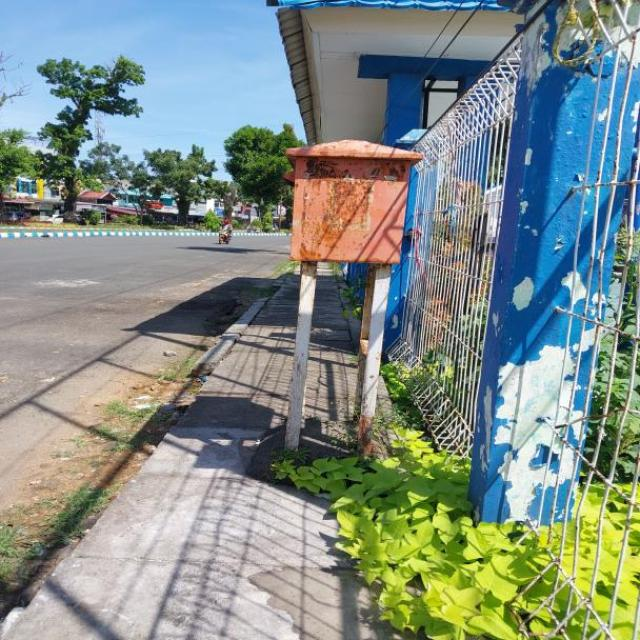barrier ahead at: (282, 132, 418, 456)
